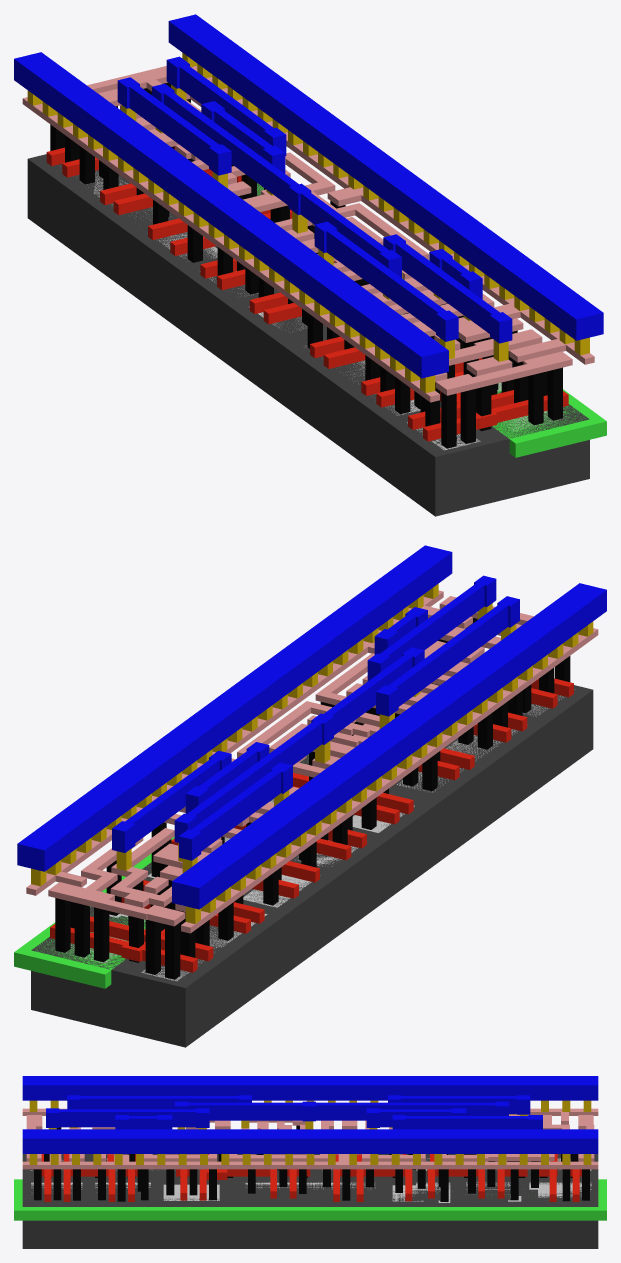
File: sky130_fd_sc_hd__fahcon_1.obj
3 views of the same model, one above another, from view 1: azimuth 30°, elevation 25°; view 2: azimuth 150°, elevation 25°; view 3: azimuth 270°, elevation 25° (orthographic). The views are drawn at different scales.
Visible parts, largest first — view 1: metal1, subs, li, licon, mcon, poly, nwell, diff; view 2: metal1, subs, li, licon, mcon, poly, nwell, diff; view 3: metal1, subs, li, nwell, licon, poly, mcon, tap.
Boxes of the visible parts, x1=… form: metal1: x1=14, y1=14, x2=603, y2=378; subs: x1=27, y1=154, x2=589, y2=516; li: x1=22, y1=66, x2=594, y2=402; licon: x1=50, y1=82, x2=562, y2=448; mcon: x1=27, y1=52, x2=589, y2=392; poly: x1=46, y1=146, x2=568, y2=441; nwell: x1=257, y1=183, x2=606, y2=457; diff: x1=60, y1=166, x2=480, y2=450; metal1: x1=17, y1=545, x2=606, y2=909; subs: x1=31, y1=684, x2=593, y2=1047; li: x1=26, y1=590, x2=598, y2=933; licon: x1=55, y1=618, x2=570, y2=979; mcon: x1=31, y1=583, x2=593, y2=923; poly: x1=50, y1=678, x2=573, y2=972; nwell: x1=14, y1=755, x2=307, y2=988; diff: x1=141, y1=689, x2=574, y2=981; metal1: x1=22, y1=1076, x2=598, y2=1153; subs: x1=22, y1=1154, x2=598, y2=1248; li: x1=22, y1=1108, x2=598, y2=1169; nwell: x1=14, y1=1179, x2=606, y2=1220; licon: x1=31, y1=1125, x2=589, y2=1201; poly: x1=41, y1=1154, x2=581, y2=1201; mcon: x1=29, y1=1100, x2=591, y2=1164; tap: x1=31, y1=1182, x2=591, y2=1202.
Size of the model in its own units: 3.2 by 2.74 by 12.8.
